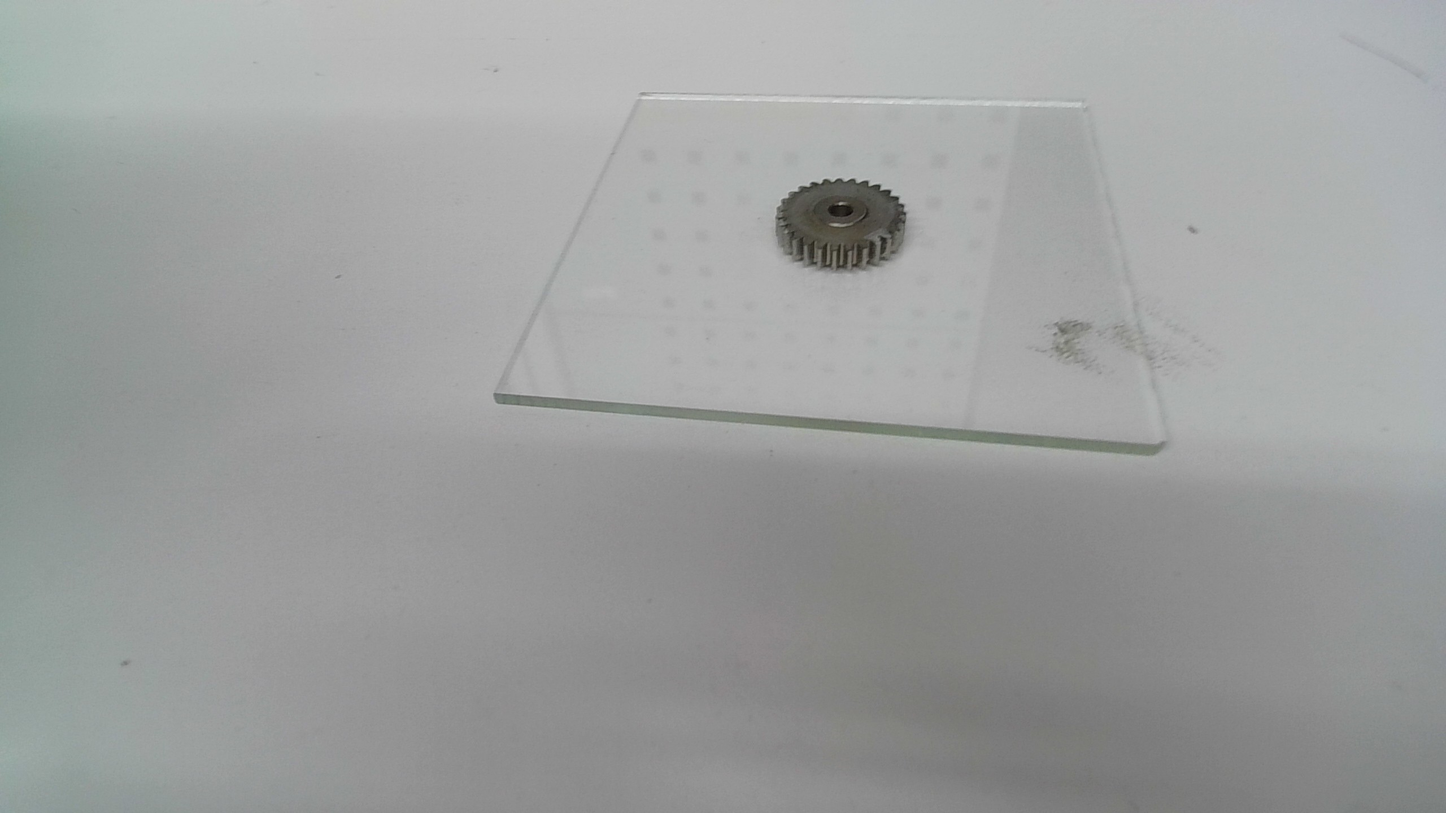gear: (772, 176, 909, 272)
